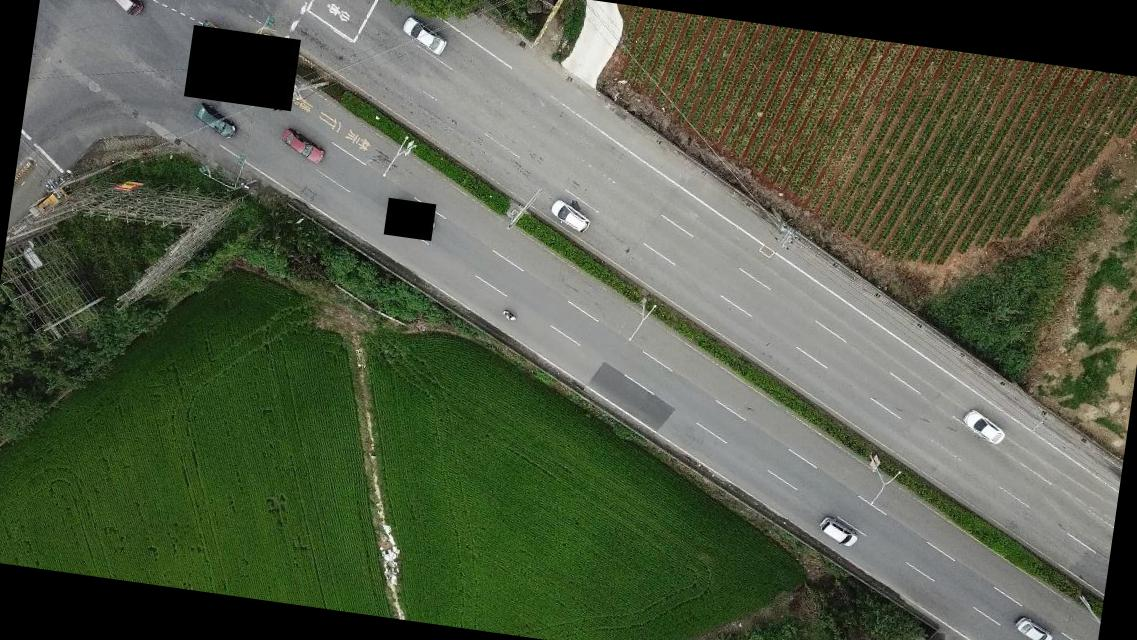vehicle: (399, 16, 450, 57), (277, 128, 327, 166), (190, 102, 238, 140), (960, 409, 1008, 446), (546, 198, 592, 233), (816, 515, 860, 548), (36, 186, 66, 218), (1013, 617, 1054, 639), (101, 0, 146, 18)
